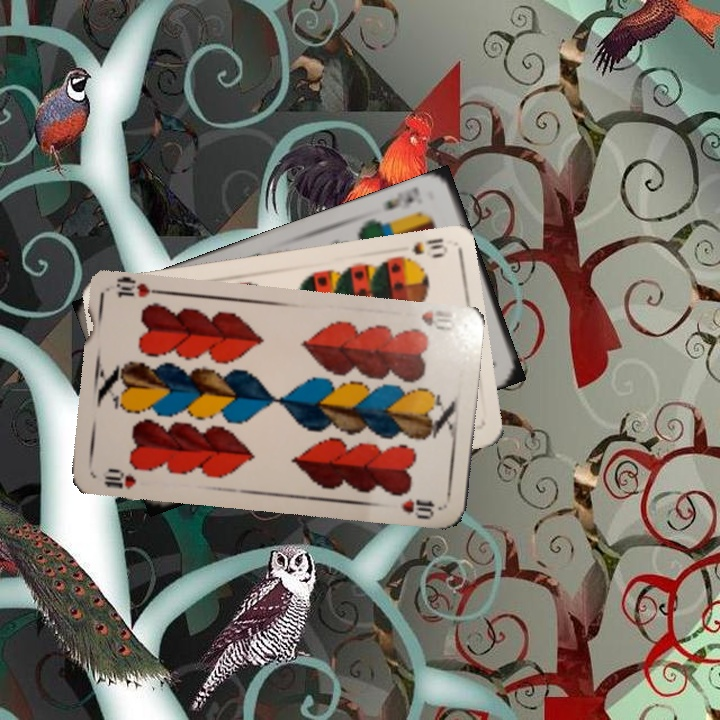EK: (380, 183, 422, 213)
H10: (99, 464, 139, 492), (417, 307, 459, 333)
S10: (393, 234, 451, 265)
